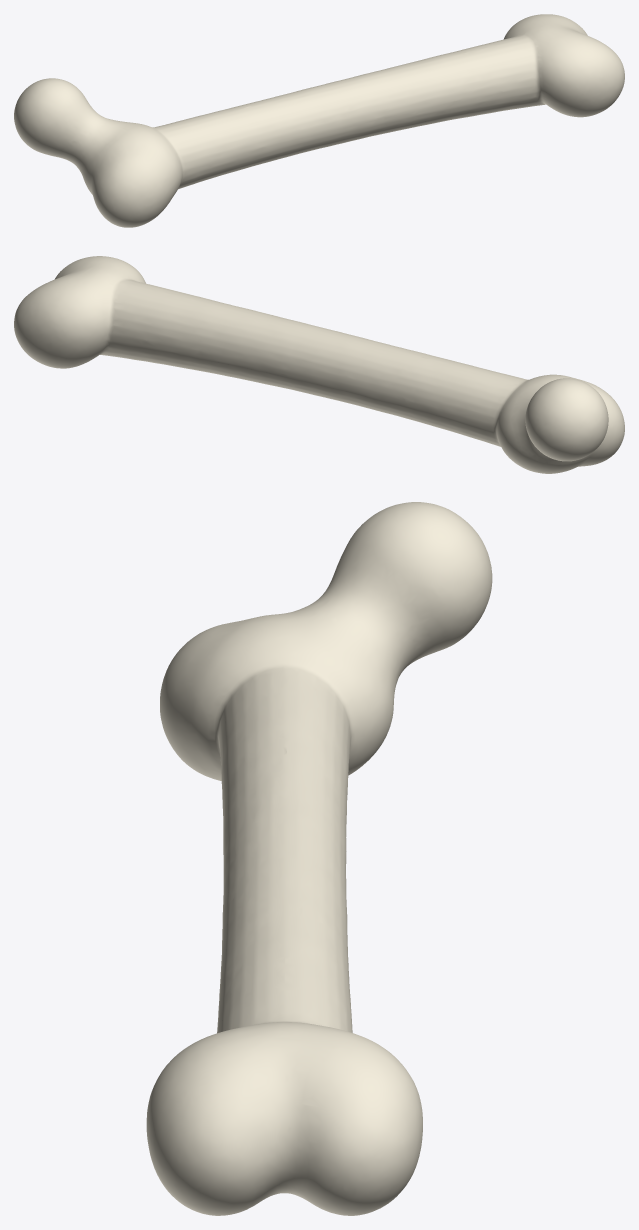
The model's file is bone.glb.
3 renders of one model, top to bottom at view 1: azimuth 30°, elevation 25°; view 2: azimuth 150°, elevation 25°; view 3: azimuth 270°, elevation 25°, orthographic. The views are drawn at different scales.
Parts seen in each view (by area): view 1: Bone; view 2: Bone; view 3: Bone.
Part boxes in pixels (x1,y1,x2,y2): Bone: [14, 14, 624, 227]; Bone: [14, 256, 624, 473]; Bone: [146, 502, 492, 1215].
Size of the model in its own units: 0.234 by 0.0468 by 0.0634.
